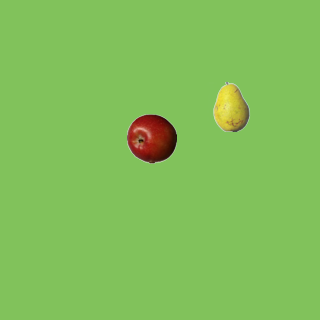Apple Braeburn: (126, 113, 176, 163)
Pear Monster: (206, 81, 256, 131)
